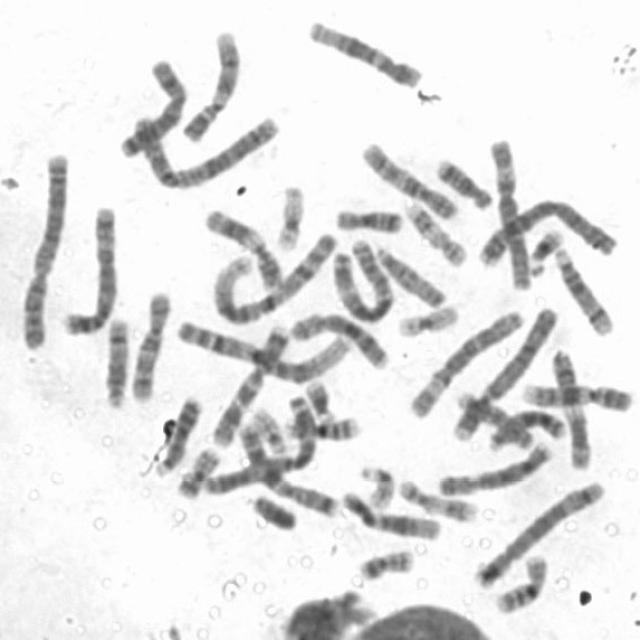A1: (207, 224, 341, 323), (172, 313, 350, 384)
A2: (126, 106, 284, 192), (16, 146, 72, 352)
A3: (198, 392, 319, 496), (328, 235, 397, 323)
B4: (446, 301, 560, 442), (472, 194, 619, 268)
B5: (468, 473, 609, 590), (57, 198, 122, 337)
C10: (355, 136, 461, 222), (125, 283, 174, 404)
C11: (200, 203, 286, 292), (546, 342, 594, 469)
C12: (302, 14, 426, 90), (338, 484, 443, 542)
C6: (404, 303, 528, 420), (486, 132, 535, 292)
C7: (208, 318, 294, 448), (234, 419, 340, 518)
C8: (431, 435, 556, 497), (284, 306, 392, 371)
C9: (178, 24, 244, 144), (516, 375, 636, 413)
D13: (150, 389, 204, 478), (482, 403, 568, 452)
D14: (550, 242, 618, 336), (98, 311, 132, 410)
D15: (369, 239, 449, 311), (454, 387, 538, 451)
E16: (490, 547, 553, 616), (280, 411, 363, 442)
E17: (399, 194, 469, 268), (392, 472, 480, 524)
E18: (430, 151, 496, 212), (330, 201, 406, 235)
F19: (270, 178, 308, 253), (392, 298, 461, 339)
F20: (172, 441, 223, 500), (354, 542, 418, 582)
G21: (523, 222, 566, 278), (300, 374, 338, 424)
G22: (353, 458, 398, 511), (248, 402, 291, 456)
X: (114, 51, 191, 160)
Y: (247, 488, 299, 532)
